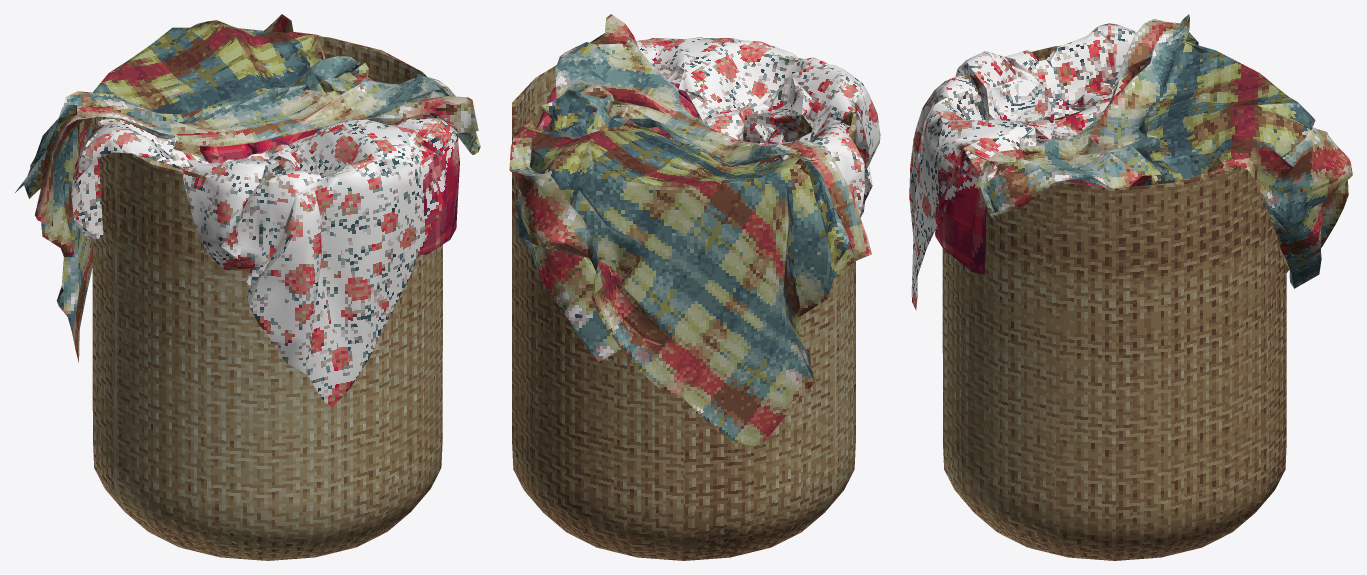
The model's file is laundry_basket.glb.
The picture shows the model from 3 angles, left to right: view 1: azimuth 30°, elevation 25°; view 2: azimuth 150°, elevation 25°; view 3: azimuth 270°, elevation 25°; orthographic projection.
Visible parts, largest first — view 1: mesh; view 2: mesh; view 3: mesh.
Part boxes in pixels (box(x1,y1,x2,y2)): mesh: box(15, 14, 480, 560); mesh: box(509, 14, 880, 560); mesh: box(909, 14, 1352, 560).
Bounding box in the file's own units: 0.399 × 0.45 × 0.4241.
1 material, 1 textured.
